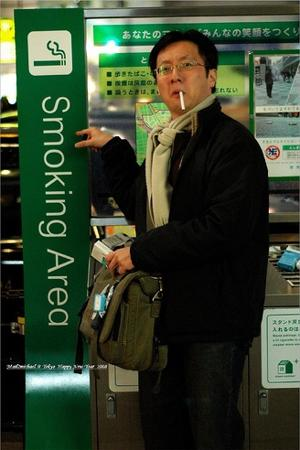person: (75, 30, 271, 450)
